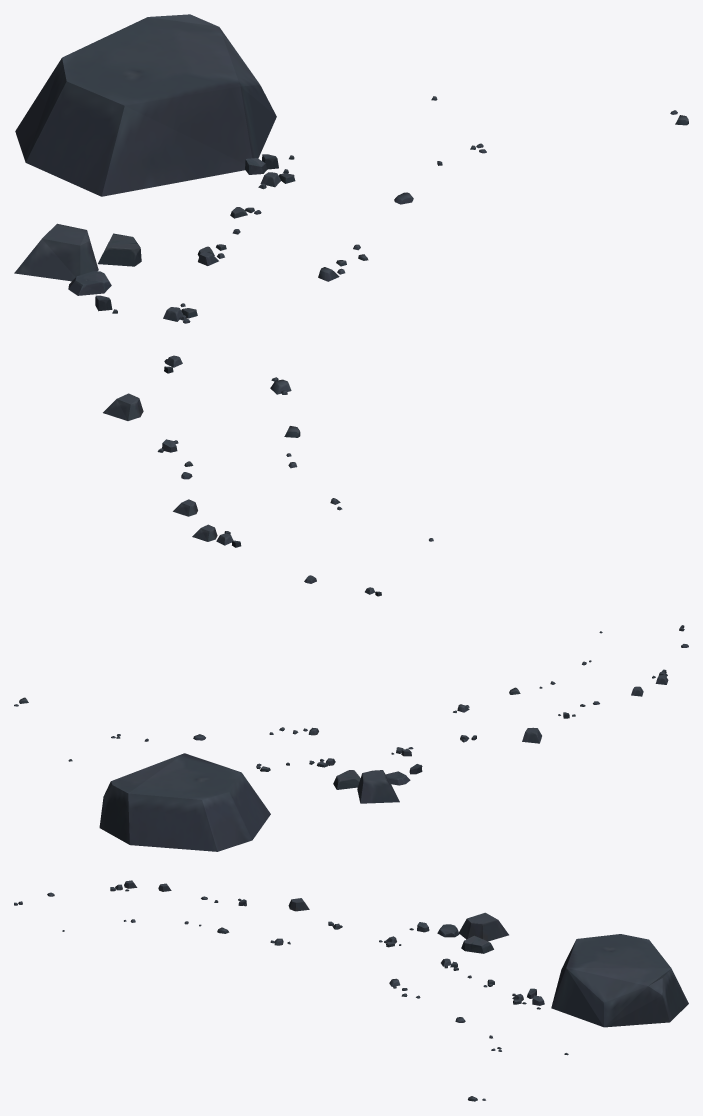
File: shitou10.fbx
The picture shows the model from 3 angles, top to bottom: view 1: azimuth 30°, elevation 25°; view 2: azimuth 150°, elevation 25°; view 3: azimuth 270°, elevation 25°; orthographic projection. The views are drawn at different scales.
Visible parts, largest first — view 1: shitou10; view 2: shitou10; view 3: shitou10.
Part boxes in pixels (x1=…): shitou10: x1=14, y1=14, x2=688, y2=596; shitou10: x1=14, y1=625, x2=688, y2=851; shitou10: x1=14, y1=880, x2=688, y2=1101.
Size of the model in its own units: 11067 by 955 by 14494.
